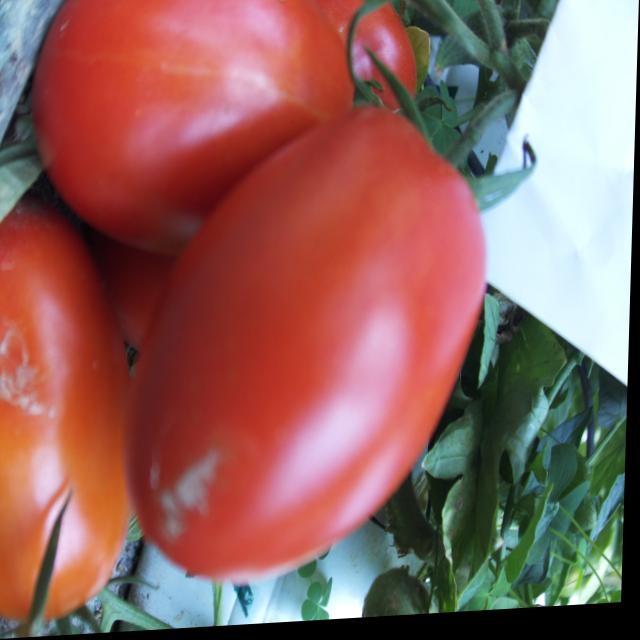kirmizi: (27, 0, 498, 587)
